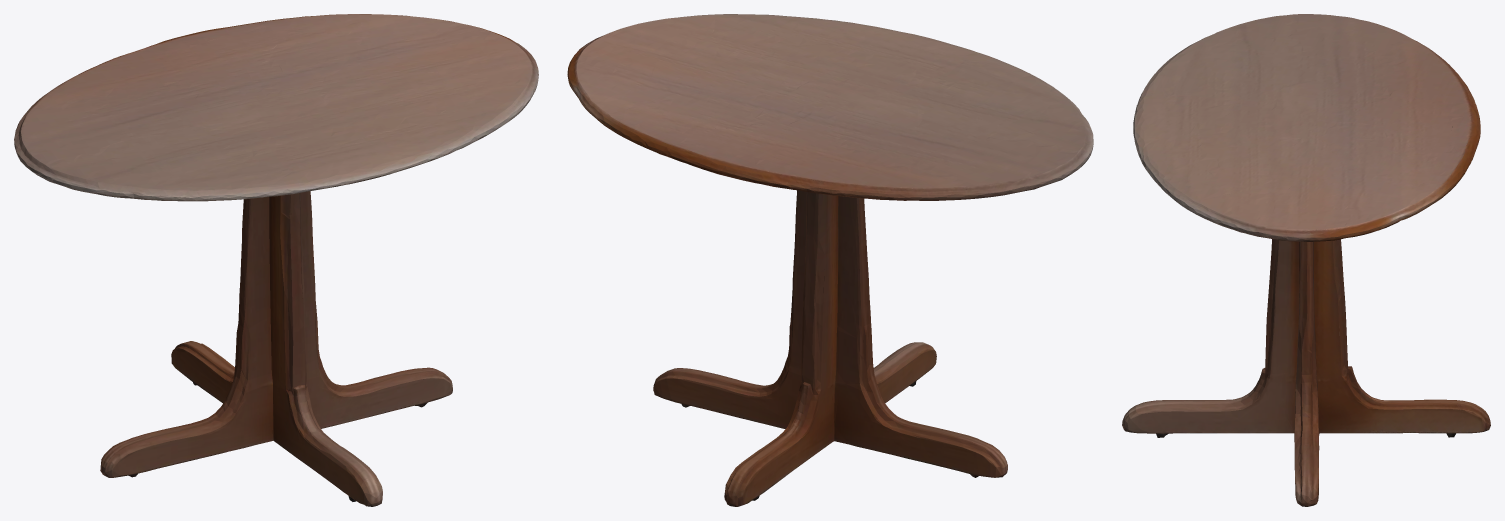
Rendered from ast_cef97bc30bd9.glb.
3 views of the same model, side by side, from view 1: azimuth 30°, elevation 25°; view 2: azimuth 150°, elevation 25°; view 3: azimuth 270°, elevation 25° (orthographic). The views are drawn at different scales.
Visible parts, largest first — view 1: geometry_0; view 2: geometry_0; view 3: geometry_0.
Part boxes in pixels (box(x1,y1,x2,y2)): geometry_0: box(14, 14, 538, 506); geometry_0: box(567, 14, 1093, 506); geometry_0: box(1122, 14, 1490, 506).
Bounding box in the file's own units: 0.9858 × 0.6526 × 0.6918.
1 material, 1 textured.
